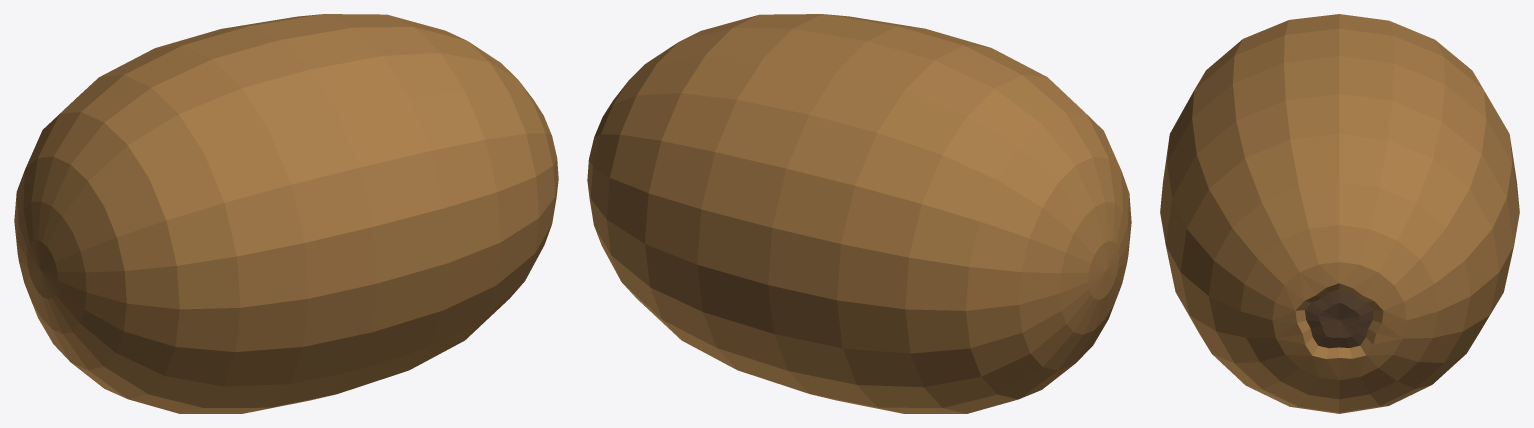
The model's file is kiwi.glb.
3 views of the same model, side by side, from view 1: azimuth 30°, elevation 25°; view 2: azimuth 150°, elevation 25°; view 3: azimuth 270°, elevation 25° (orthographic). The views are drawn at different scales.
Visible parts, largest first — view 1: kiwi complete axial surface; view 2: kiwi complete axial surface; view 3: kiwi complete axial surface.
Boxes of the visible parts, bbox=[...] form: kiwi complete axial surface: bbox=[14, 14, 558, 413]; kiwi complete axial surface: bbox=[587, 14, 1131, 413]; kiwi complete axial surface: bbox=[1160, 14, 1519, 413].
Bounding box in the file's own units: 0.075 × 0.0506 × 0.0526.
